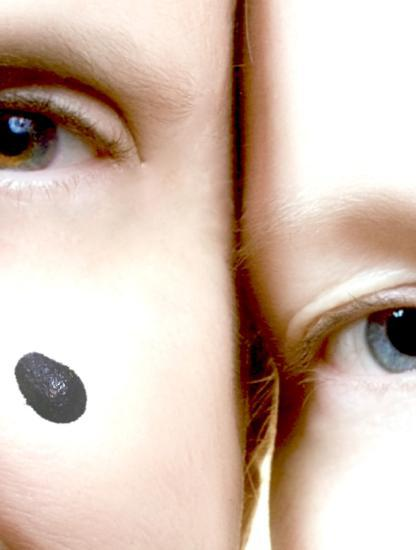Avocado: (7, 346, 92, 431)
